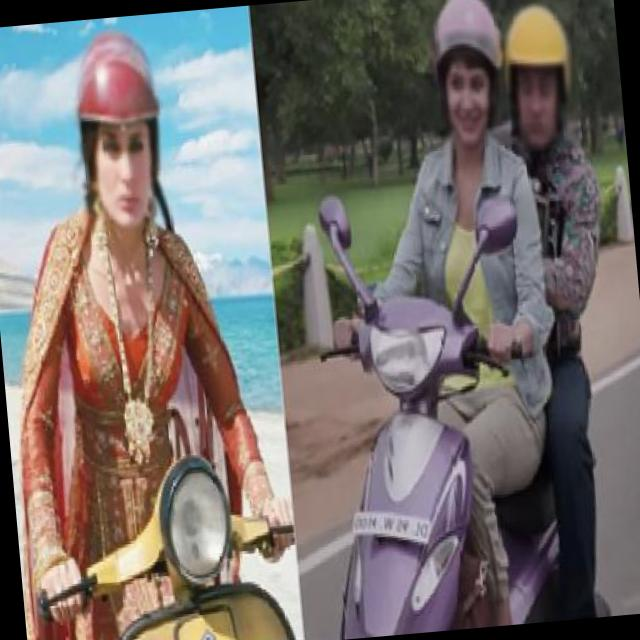With Helmet: (62, 23, 177, 234), (422, 0, 517, 151), (499, 0, 580, 153)
